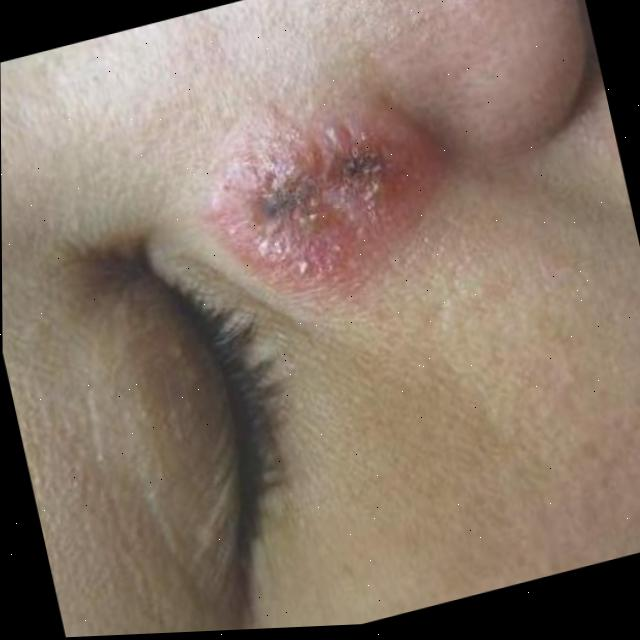Shingles: (222, 137, 408, 253)
